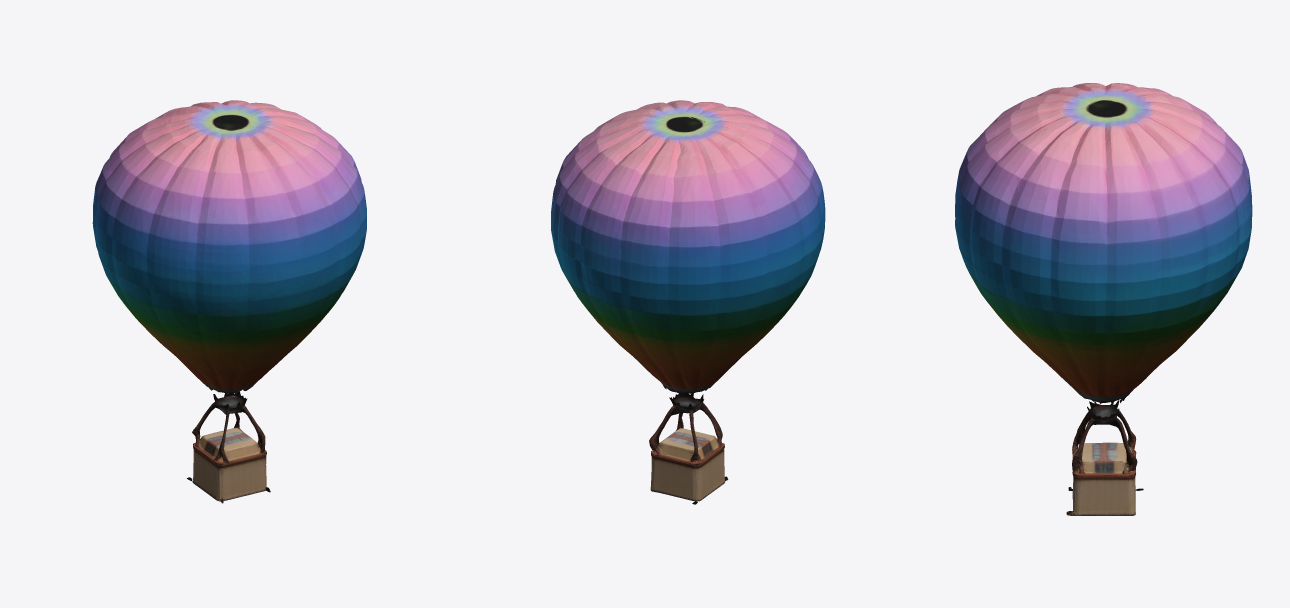
The model's file is voxhammer.glb.
The picture shows the model from 3 angles, left to right: view 1: azimuth 30°, elevation 25°; view 2: azimuth 150°, elevation 25°; view 3: azimuth 270°, elevation 25°; orthographic projection. The views are drawn at different scales.
Parts seen in each view (by area): view 1: world; view 2: world; view 3: world.
Part boxes in pixels (box(x1,y1,x2,y2)): world: box(92, 100, 366, 503); world: box(551, 100, 825, 504); world: box(955, 83, 1252, 515).
Size of the model in its own units: 0.787 by 1.1 by 0.7862.
Materials: 2 (1 with a texture image).
